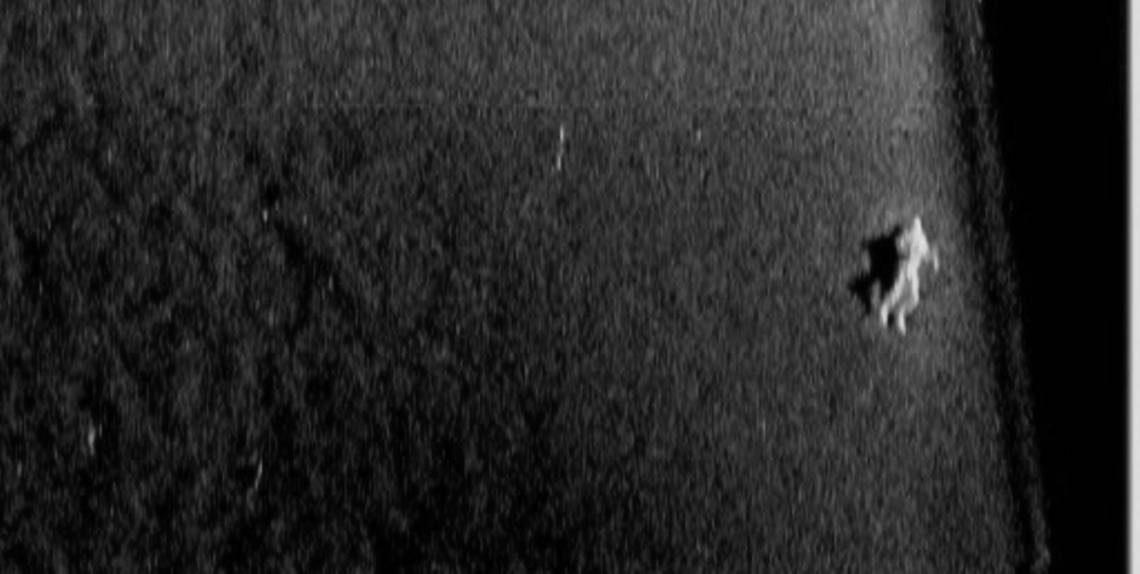man: (844, 211, 942, 340)
